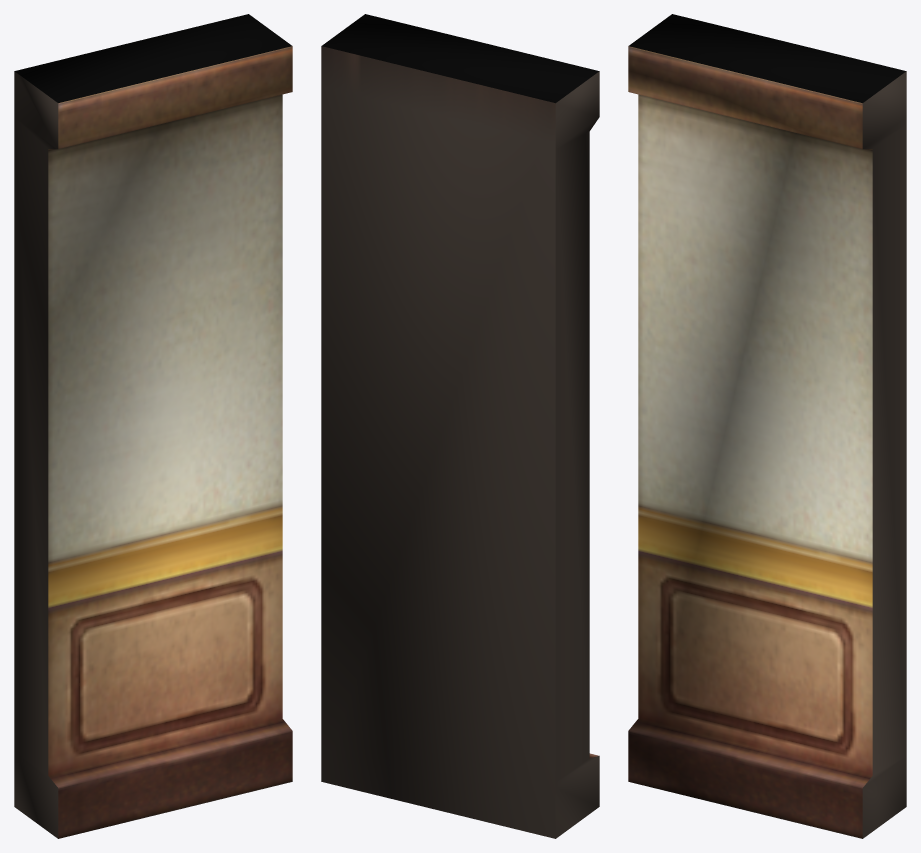
Rendered from a_SCwall04.glb.
The picture shows the model from 3 angles, left to right: view 1: azimuth 30°, elevation 25°; view 2: azimuth 150°, elevation 25°; view 3: azimuth 330°, elevation 25°; orthographic projection.
Parts seen in each view (by area): view 1: a_SCwall04; view 2: a_SCwall04; view 3: a_SCwall04.
Part boxes in pixels (x1,y1,x2,y2): a_SCwall04: [14, 14, 292, 838]; a_SCwall04: [321, 14, 599, 838]; a_SCwall04: [628, 14, 906, 838].
Size of the model in its own units: 1 by 3 by 0.324.
1 material, 1 textured.
